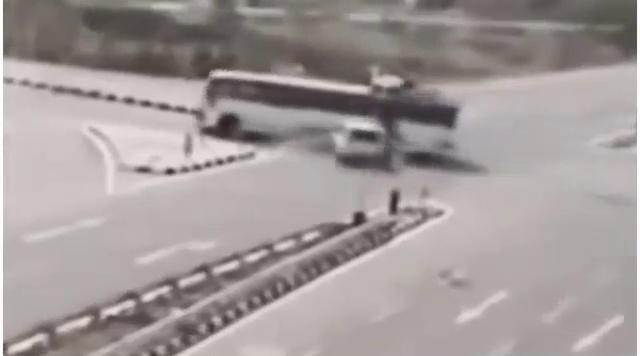car-accident: (199, 68, 468, 176)
